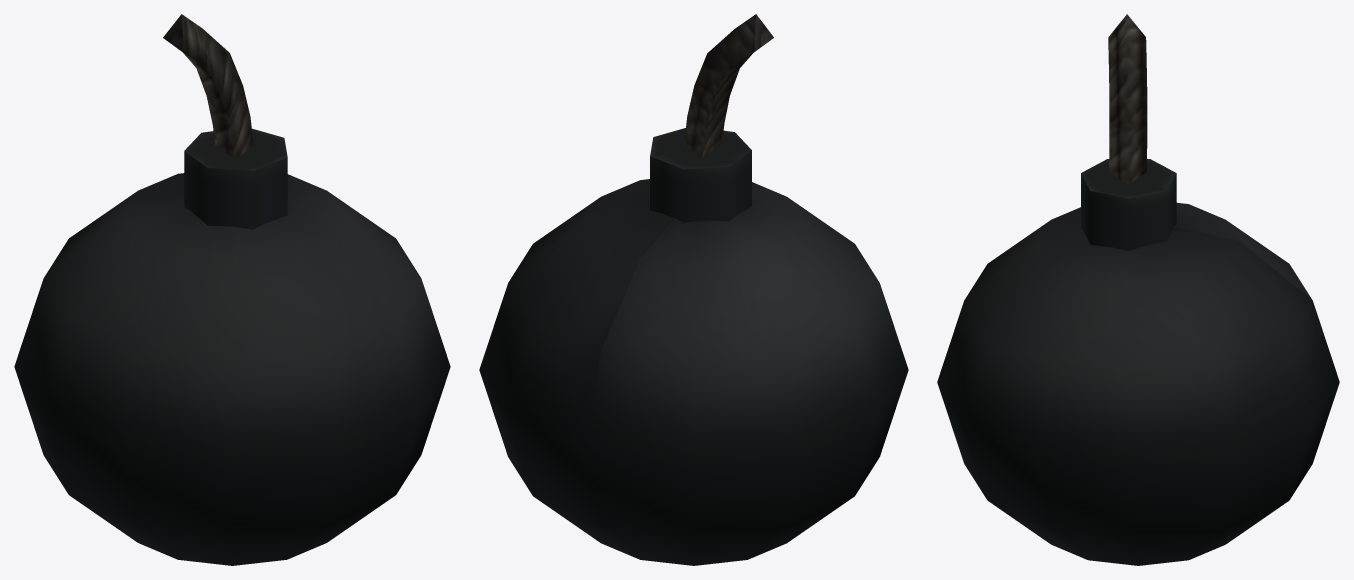
File: candy_bomb.FBX
3 views of the same model, side by side, from view 1: azimuth 30°, elevation 25°; view 2: azimuth 150°, elevation 25°; view 3: azimuth 270°, elevation 25° (orthographic). The views are drawn at different scales.
Parts seen in each view (by area): view 1: candy_bomb; view 2: candy_bomb; view 3: candy_bomb.
Part boxes in pixels (x1,y1,x2,y2): candy_bomb: (14, 14, 450, 565); candy_bomb: (479, 14, 908, 565); candy_bomb: (937, 14, 1339, 565).
Bounding box in the file's own units: 27.68 × 38.36 × 27.68.
